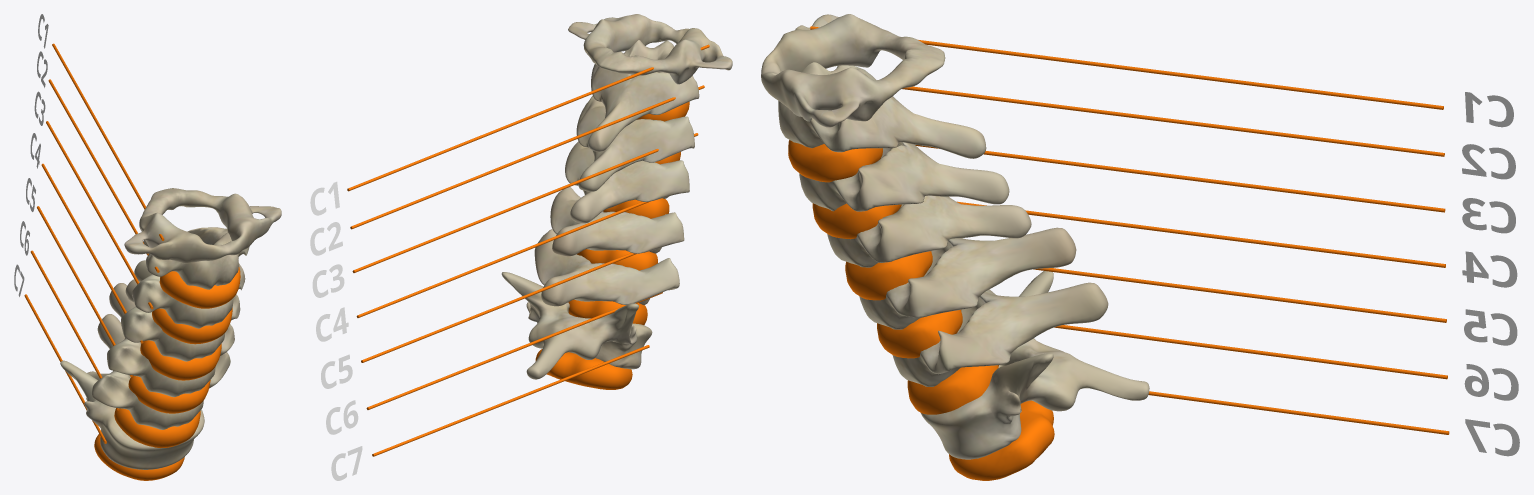
Rendered from neck.glb.
3 renders of one model, left to right at view 1: azimuth 30°, elevation 25°; view 2: azimuth 150°, elevation 25°; view 3: azimuth 270°, elevation 25°, orthographic. The views are drawn at different scales.
Parts seen in each view (by area): view 1: Male_Skeletal_Intervertabral_Discs_Geo_discs_0, Male_Skeletal_Atlas_Geo_bones back_0, Male_Skeletal_C07_Geo_bones back_0, Male_Skeletal_C06_Geo_bones back_0, Male_Skeletal_C05_Geo_bones back_0, Male_Skeletal_Axis_Geo_bones back_0, Male_Skeletal_C03_Geo_bones back_0, Male_Skeletal_C04_Geo_bones back_0, Cylinder019_discs_0, Cylinder017_discs_0, Cylinder018_discs_0, Cylinder020_discs_0 (+3 smaller); view 2: Male_Skeletal_C07_Geo_bones back_0, Male_Skeletal_Atlas_Geo_bones back_0, Male_Skeletal_C06_Geo_bones back_0, Male_Skeletal_Intervertabral_Discs_Geo_discs_0, Male_Skeletal_Axis_Geo_bones back_0, Male_Skeletal_C05_Geo_bones back_0, Male_Skeletal_C03_Geo_bones back_0, Male_Skeletal_C04_Geo_bones back_0, Cylinder018_discs_0, Cylinder017_discs_0, Cylinder019_discs_0, Cylinder020_discs_0 (+6 smaller); view 3: Male_Skeletal_Intervertabral_Discs_Geo_discs_0, Male_Skeletal_Atlas_Geo_bones back_0, Male_Skeletal_C07_Geo_bones back_0, Male_Skeletal_C05_Geo_bones back_0, Male_Skeletal_C06_Geo_bones back_0, Male_Skeletal_C03_Geo_bones back_0, Male_Skeletal_C04_Geo_bones back_0, Male_Skeletal_Axis_Geo_bones back_0, Cylinder018_discs_0, Cylinder017_discs_0, Cylinder019_discs_0, Cylinder020_discs_0 (+8 smaller).
Part boxes in pixels (box(x1,y1,x2,y2)): Male_Skeletal_Intervertabral_Discs_Geo_discs_0: box(94, 267, 240, 480); Male_Skeletal_Atlas_Geo_bones back_0: box(124, 188, 281, 263); Male_Skeletal_C07_Geo_bones back_0: box(60, 360, 204, 469); Male_Skeletal_C06_Geo_bones back_0: box(91, 314, 230, 429); Male_Skeletal_C05_Geo_bones back_0: box(107, 283, 234, 397); Male_Skeletal_Axis_Geo_bones back_0: box(143, 227, 249, 289); Male_Skeletal_C03_Geo_bones back_0: box(132, 260, 245, 328); Male_Skeletal_C04_Geo_bones back_0: box(121, 279, 240, 361); Cylinder019_discs_0: box(46, 121, 153, 309); Cylinder017_discs_0: box(52, 43, 164, 240); Cylinder018_discs_0: box(48, 79, 159, 272); Cylinder020_discs_0: box(41, 163, 143, 343); Male_Skeletal_C07_Geo_bones back_0: box(501, 272, 652, 379); Male_Skeletal_Atlas_Geo_bones back_0: box(568, 14, 732, 84); Male_Skeletal_C06_Geo_bones back_0: box(534, 229, 679, 306); Male_Skeletal_Intervertabral_Discs_Geo_discs_0: box(535, 101, 689, 389); Male_Skeletal_Axis_Geo_bones back_0: box(588, 40, 699, 151); Male_Skeletal_C05_Geo_bones back_0: box(550, 187, 684, 256); Male_Skeletal_C03_Geo_bones back_0: box(576, 96, 694, 191); Male_Skeletal_C04_Geo_bones back_0: box(565, 141, 689, 223); Cylinder018_discs_0: box(350, 85, 704, 229); Cylinder017_discs_0: box(347, 44, 709, 191); Cylinder019_discs_0: box(352, 133, 698, 272); Cylinder020_discs_0: box(356, 201, 650, 317); Male_Skeletal_Intervertabral_Discs_Geo_discs_0: box(788, 140, 1054, 480); Male_Skeletal_Atlas_Geo_bones back_0: box(761, 14, 945, 127); Male_Skeletal_C07_Geo_bones back_0: box(921, 271, 1149, 459); Male_Skeletal_C05_Geo_bones back_0: box(859, 227, 1076, 329); Male_Skeletal_C06_Geo_bones back_0: box(892, 282, 1108, 386); Male_Skeletal_C03_Geo_bones back_0: box(799, 142, 1009, 211); Male_Skeletal_C04_Geo_bones back_0: box(827, 195, 1031, 267); Male_Skeletal_Axis_Geo_bones back_0: box(778, 62, 986, 158); Cylinder018_discs_0: box(902, 86, 1444, 156); Cylinder017_discs_0: box(810, 26, 1443, 109); Cylinder019_discs_0: box(915, 145, 1445, 212); Cylinder020_discs_0: box(957, 201, 1445, 267).
Size of the model in its own units: 0.1121 by 0.2072 by 0.3354.
3 materials, 1 textured.
